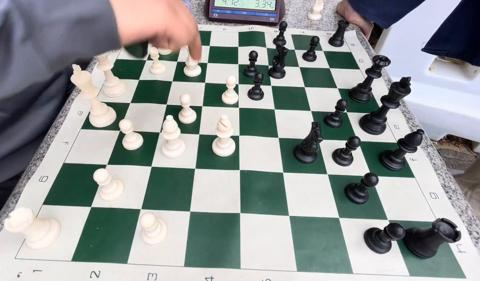xcorner: (288, 43, 300, 54), (102, 158, 113, 170), (183, 205, 195, 216), (317, 44, 328, 55), (260, 42, 271, 53), (232, 41, 243, 52), (204, 40, 215, 51), (176, 39, 187, 50), (148, 38, 159, 49), (323, 61, 334, 72), (293, 60, 304, 71), (263, 59, 274, 70), (232, 58, 243, 69), (202, 57, 213, 68), (172, 55, 183, 66), (142, 54, 153, 65), (331, 81, 342, 92), (298, 80, 309, 91), (265, 79, 276, 90), (232, 78, 243, 89), (200, 76, 211, 87), (167, 75, 178, 86), (134, 74, 145, 85), (340, 105, 351, 116), (304, 104, 315, 115), (268, 102, 279, 113), (232, 101, 243, 112), (197, 100, 208, 111), (161, 98, 172, 109), (125, 97, 136, 108), (351, 134, 362, 145), (312, 132, 323, 143), (272, 131, 283, 142), (233, 129, 244, 140), (193, 128, 204, 139), (154, 126, 165, 137), (115, 125, 126, 136), (365, 169, 376, 180), (321, 167, 332, 178), (277, 166, 288, 177), (233, 164, 244, 175), (189, 162, 200, 173), (145, 160, 156, 171), (382, 213, 393, 224), (332, 211, 343, 222), (282, 209, 293, 220), (233, 207, 244, 218), (134, 203, 145, 214), (85, 201, 96, 212)
